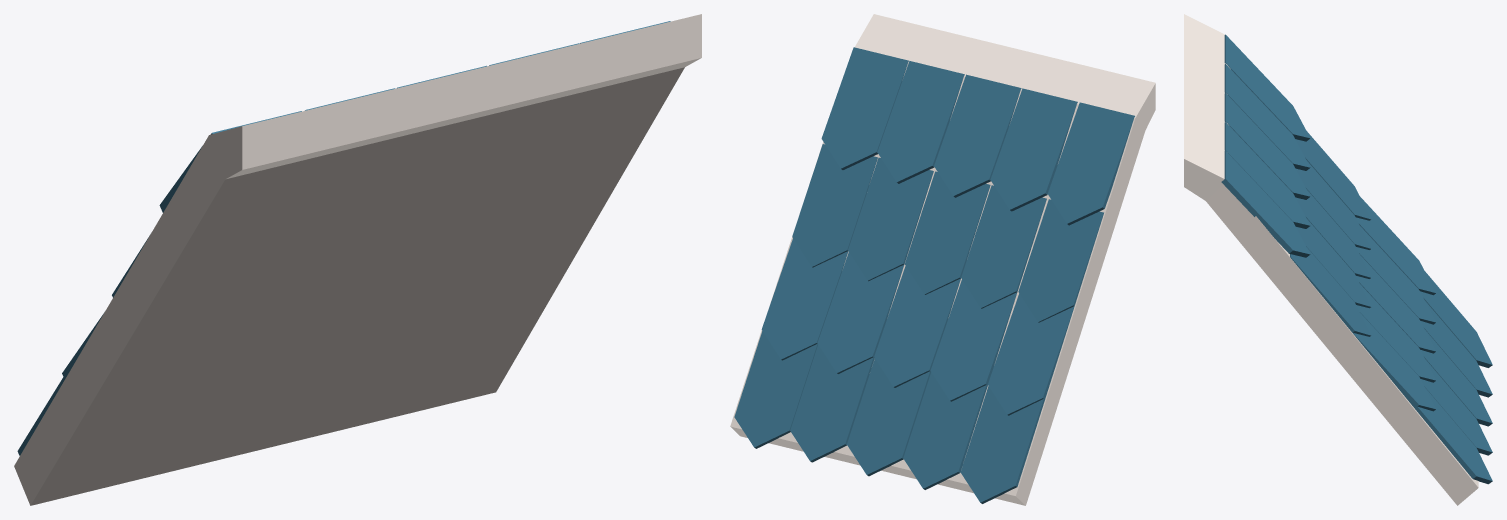
Rendered from Roof01_house2.obj.
The picture shows the model from 3 angles, left to right: view 1: azimuth 30°, elevation 25°; view 2: azimuth 150°, elevation 25°; view 3: azimuth 270°, elevation 25°; orthographic projection. The views are drawn at different scales.
Visible parts, largest first — view 1: Roof01_house2_Cube; view 2: Roof01_house2_Cube; view 3: Roof01_house2_Cube.
Part boxes in pixels (x1,y1,x2,y2): Roof01_house2_Cube: (14, 14, 701, 505); Roof01_house2_Cube: (730, 14, 1155, 505); Roof01_house2_Cube: (1184, 14, 1492, 505).
Size of the model in its own units: 3.03 by 3.32 by 2.69.
